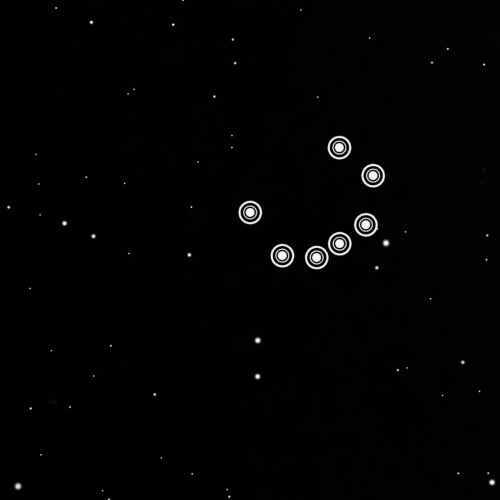corona_borealis: (235, 128, 389, 274)
